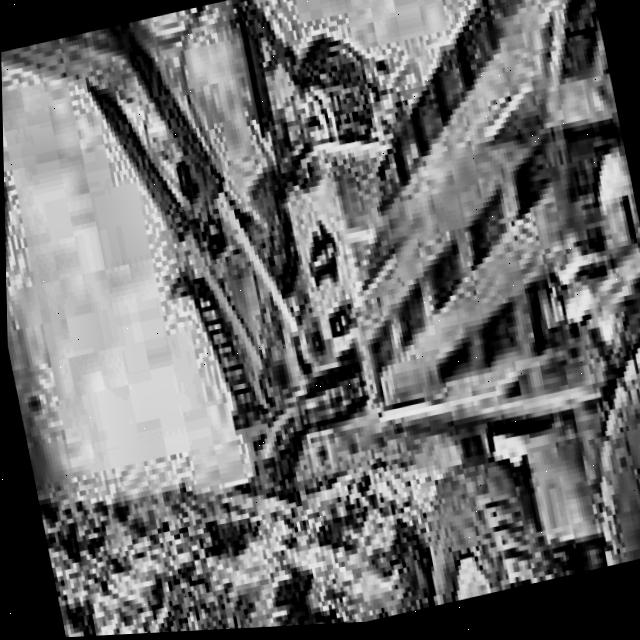dump_truck: (216, 0, 640, 631)
excavator: (0, 0, 499, 640)
